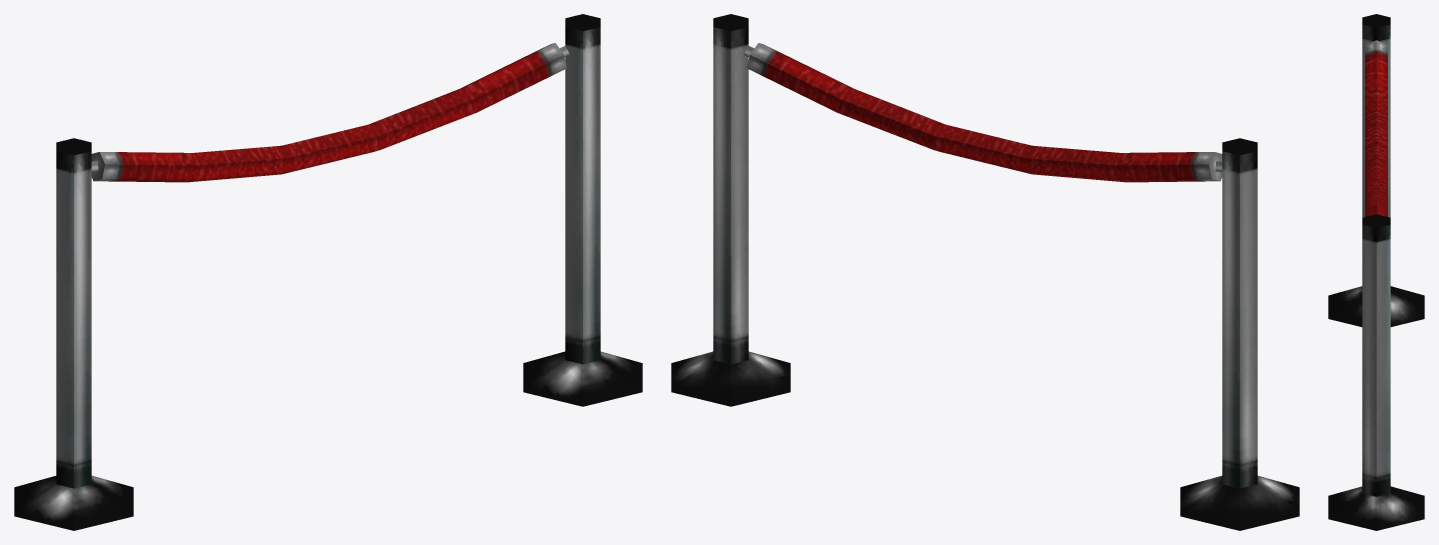
Rendered from linedividers.fbx.
3 views of the same model, side by side, from view 1: azimuth 30°, elevation 25°; view 2: azimuth 150°, elevation 25°; view 3: azimuth 270°, elevation 25° (orthographic). The views are drawn at different scales.
Visible parts, largest first — view 1: mesh_0; view 2: mesh_0; view 3: mesh_0.
Boxes of the visible parts, x1,y1,x2,y2 form: mesh_0: (14, 14, 642, 530); mesh_0: (671, 14, 1299, 530); mesh_0: (1328, 14, 1424, 530).
Bounding box in the file's own units: 185 × 100 × 30.46.
Materials: 1 (1 with a texture image).
